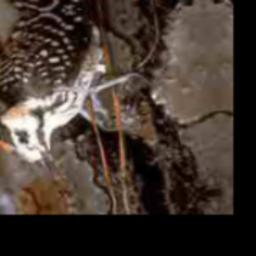Woodpecker: (0, 8, 155, 194)
